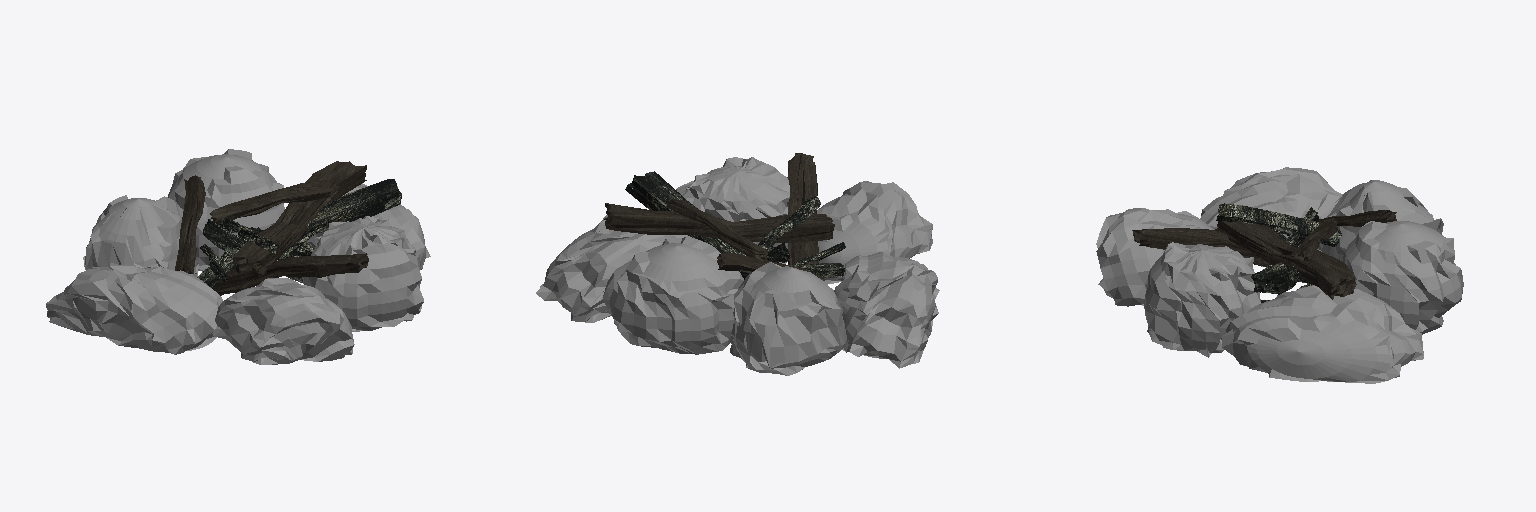
3 views of the same model, side by side, from view 1: azimuth 30°, elevation 25°; view 2: azimuth 150°, elevation 25°; view 3: azimuth 270°, elevation 25° (orthographic).
Visible parts, largest first — view 1: Sphere008, Sphere004, Sphere005, Sphere007, Sphere003, Box033, Box035, Box034, Box026, Box031, Sphere006, Box029 (+2 smaller); view 2: Sphere003, Sphere007, Sphere008, Sphere004, Sphere006, Sphere005, Box033, Box035, Box034, Box026, Box032, Box031; view 3: Sphere006, Sphere005, Sphere003, Sphere004, Sphere008, Box033, Sphere007, Box035, Box032, Box034, Box026, Box031.
Boxes of the visible parts, x1,y1,x2,y2 form: Sphere008: [46, 263, 222, 354]; Sphere004: [212, 278, 354, 364]; Sphere005: [302, 216, 423, 331]; Sphere007: [83, 195, 198, 276]; Sphere003: [168, 149, 284, 271]; Box033: [233, 161, 366, 275]; Box035: [213, 253, 368, 294]; Box034: [220, 179, 401, 295]; Box026: [210, 180, 331, 224]; Box031: [175, 175, 205, 273]; Sphere006: [307, 183, 430, 269]; Box029: [203, 219, 303, 283]; Sphere003: [602, 236, 743, 354]; Sphere007: [730, 262, 848, 375]; Sphere008: [834, 252, 939, 368]; Sphere004: [817, 181, 932, 283]; Sphere006: [536, 215, 689, 322]; Sphere005: [676, 157, 789, 263]; Box033: [604, 203, 834, 242]; Box035: [787, 153, 818, 265]; Box034: [625, 171, 748, 279]; Box026: [666, 199, 769, 259]; Box032: [758, 196, 820, 250]; Box031: [717, 253, 824, 280]; Sphere006: [1222, 285, 1423, 383]; Sphere005: [1144, 242, 1260, 357]; Sphere003: [1343, 221, 1463, 334]; Sphere004: [1096, 208, 1213, 306]; Sphere008: [1200, 167, 1342, 266]; Box033: [1215, 221, 1356, 299]; Sphere007: [1317, 180, 1443, 261]; Box035: [1132, 228, 1269, 266]; Box032: [1216, 203, 1341, 246]; Box034: [1251, 263, 1309, 294]; Box026: [1291, 218, 1337, 261]; Box031: [1318, 210, 1396, 226].
Bounding box in the file's own units: 145 × 35.96 × 128.
3 materials, 2 textured.